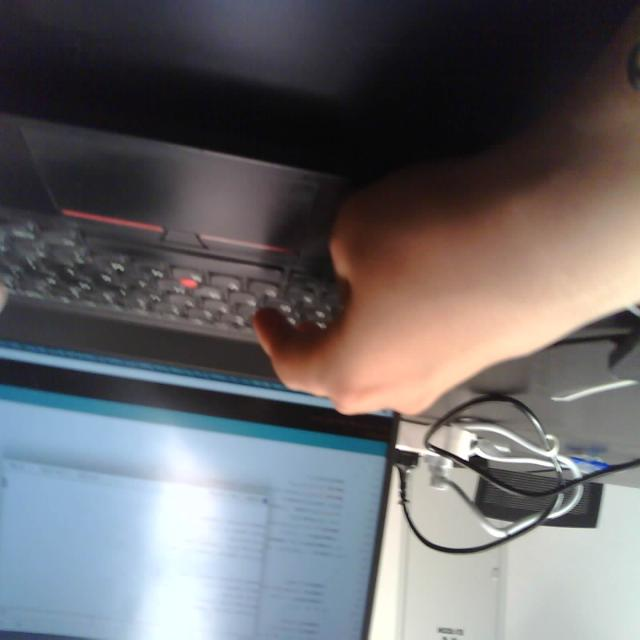keyboard-with-hands: (0, 104, 414, 369)
